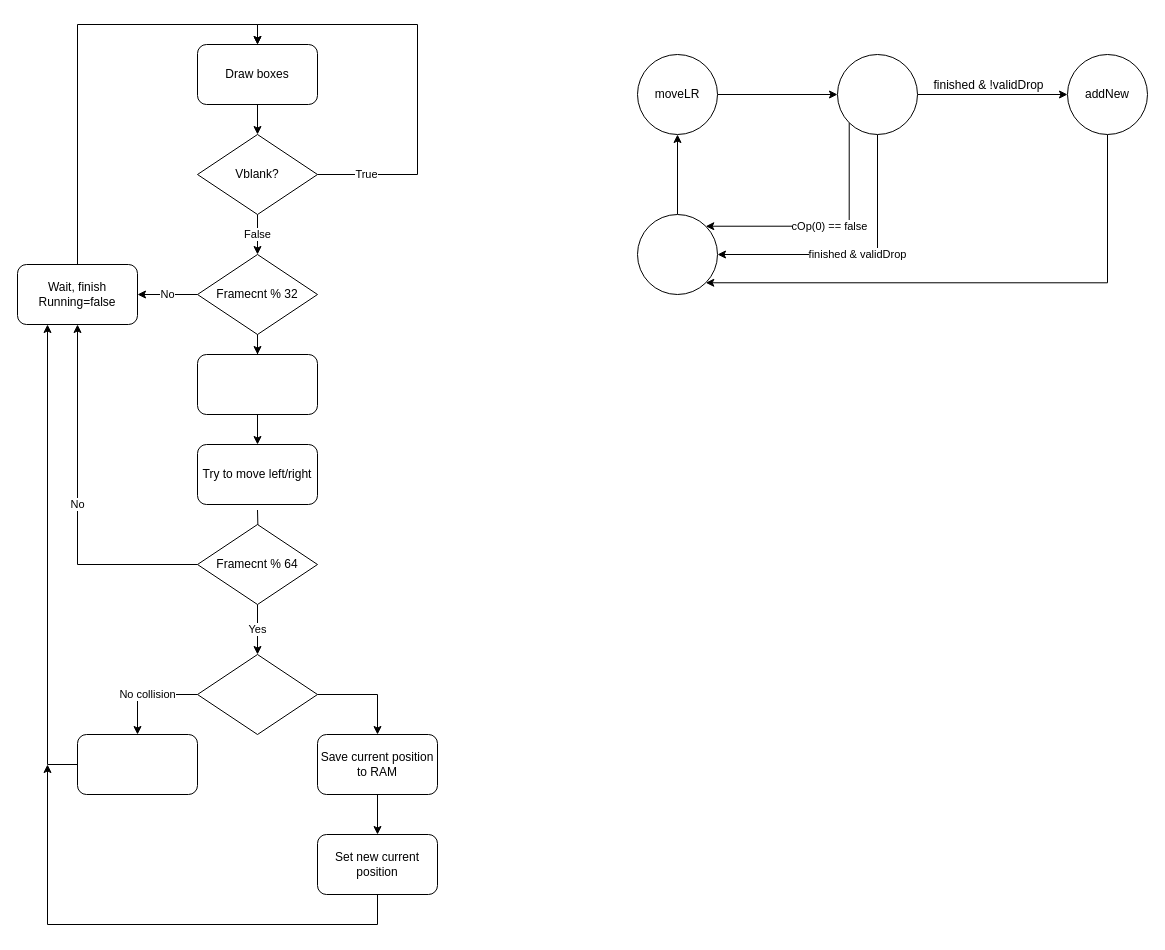
Image size: 1165x950. Some labels were removed from this diagram. The shapes that lost their labels are listed below. From the top down, each one's centre as x and y in pixels, then its label:
At [877,94]: "moveDown".
At [677,254]: "done, running=false".
At [257,384]: "Running=true".
At [257,694]: "Check for collision below".
At [137,764]: "Drop down by one".
